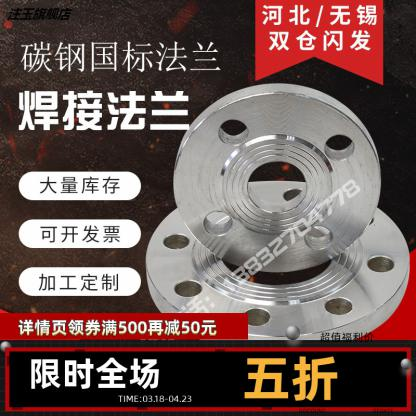FOD: (141, 78, 414, 345)
